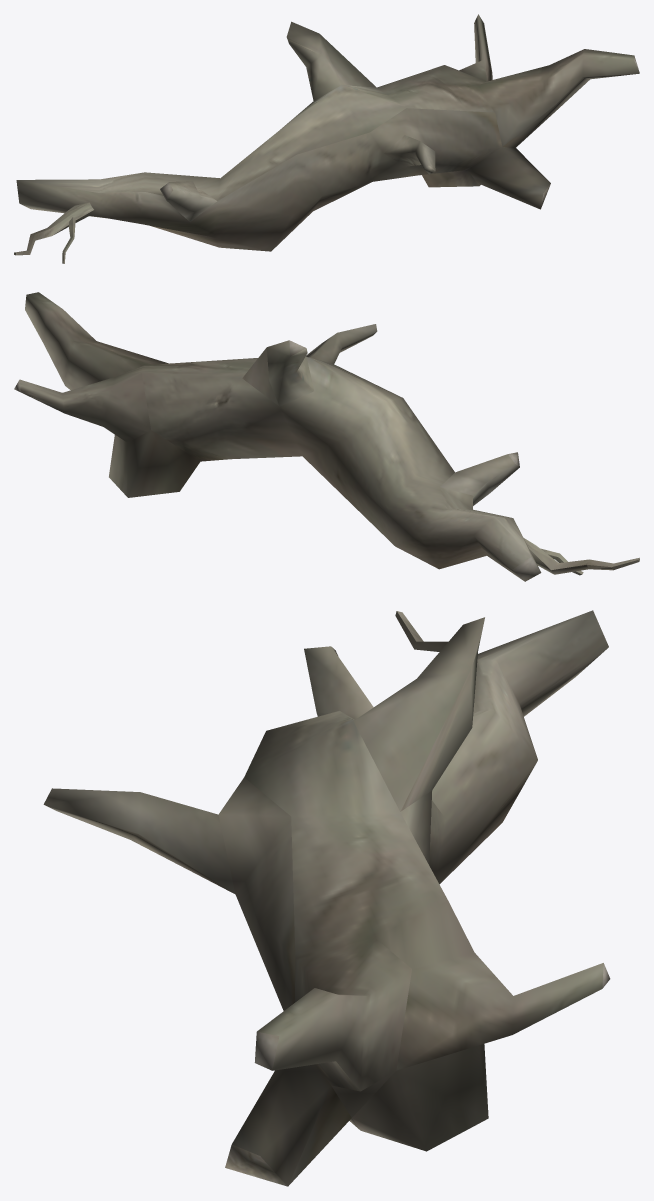
The model's file is DN_lv2_kushu07.FBX.
The picture shows the model from 3 angles, top to bottom: view 1: azimuth 30°, elevation 25°; view 2: azimuth 150°, elevation 25°; view 3: azimuth 270°, elevation 25°; orthographic projection. The views are drawn at different scales.
Parts seen in each view (by area): view 1: DN_lv2_kushu07; view 2: DN_lv2_kushu07; view 3: DN_lv2_kushu07.
Boxes of the visible parts, left/top/right/bottom form: DN_lv2_kushu07: left=14, top=14, right=639, bottom=263; DN_lv2_kushu07: left=14, top=292, right=639, bottom=581; DN_lv2_kushu07: left=43, top=610, right=610, bottom=1186.
Bounding box in the file's own units: 295 × 89.55 × 122.
